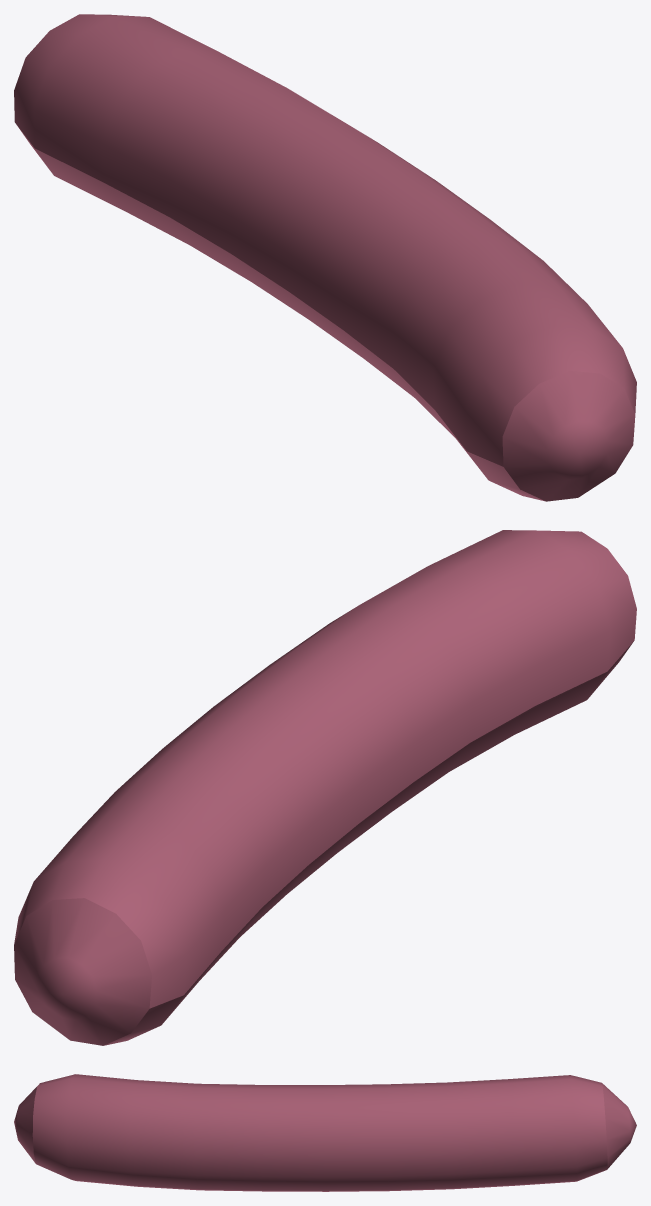
File: Ing_Weiner.fbx
3 renders of one model, top to bottom at view 1: azimuth 30°, elevation 25°; view 2: azimuth 150°, elevation 25°; view 3: azimuth 270°, elevation 25°, orthographic. The views are drawn at different scales.
Visible parts, largest first — view 1: Ing_Weiner_low; view 2: Ing_Weiner_low; view 3: Ing_Weiner_low.
Part boxes in pixels (box(x1,y1,x2,y2)): Ing_Weiner_low: box(14, 14, 636, 501); Ing_Weiner_low: box(14, 530, 636, 1045); Ing_Weiner_low: box(14, 1074, 636, 1191).
Size of the model in its own units: 7.78 by 6.48 by 35.98.
